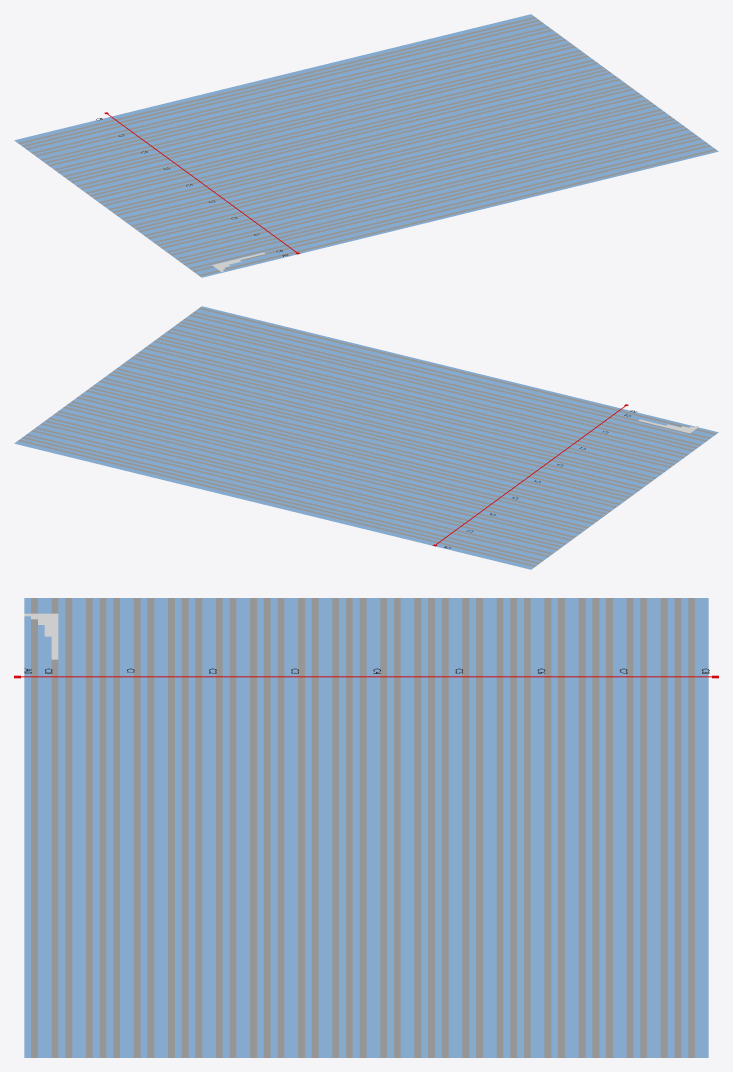
The model's file is dawObjects.dae.
3 renders of one model, top to bottom at view 1: azimuth 30°, elevation 25°; view 2: azimuth 150°, elevation 25°; view 3: azimuth 270°, elevation 25°, orthographic. The views are drawn at different scales.
Visible parts, largest first — view 1: Pointer; view 2: Pointer; view 3: Pointer.
Part boxes in pixels (left/top/right/bottom): Pointer: left=14, top=14, right=718, bottom=277; Pointer: left=14, top=306, right=718, bottom=569; Pointer: left=14, top=598, right=718, bottom=1057.
Bounding box in the file's own units: 15.9 × 10.3 × 0.08.
